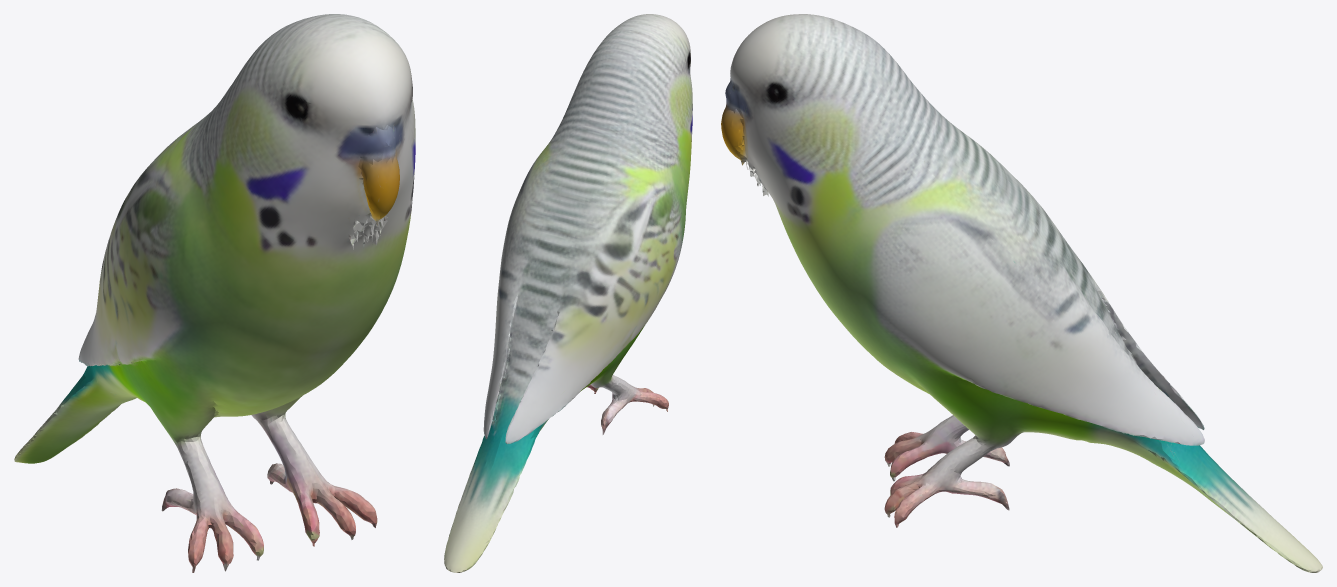
The model's file is budgerigar.glb.
3 views of the same model, side by side, from view 1: azimuth 30°, elevation 25°; view 2: azimuth 150°, elevation 25°; view 3: azimuth 270°, elevation 25° (orthographic). The views are drawn at different scales.
Visible parts, largest first — view 1: model; view 2: model; view 3: model.
Boxes of the visible parts, box(x1,y1,x2,y2) form: model: box(14, 14, 415, 572); model: box(444, 14, 692, 572); model: box(721, 14, 1322, 572).
Bounding box in the file's own units: 0.7183 × 1.9 × 1.89.
1 material, 1 textured.
